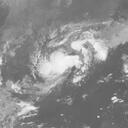cyclone: (30, 26, 92, 86)
